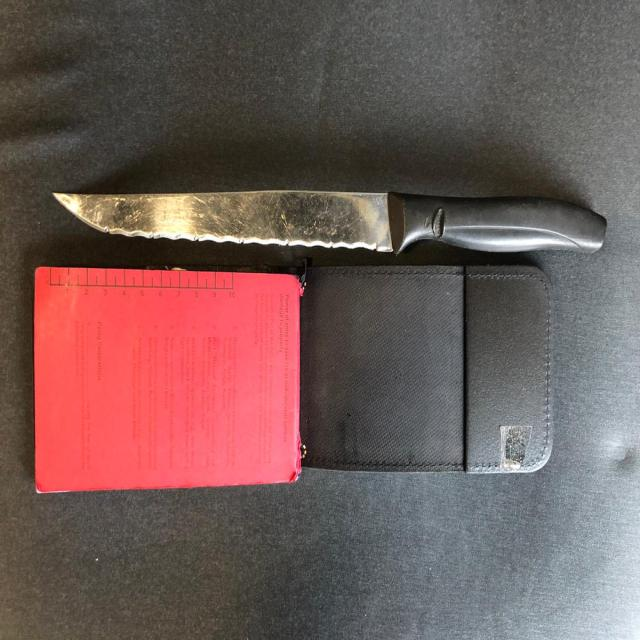Sharp-Object: (53, 188, 608, 256)
